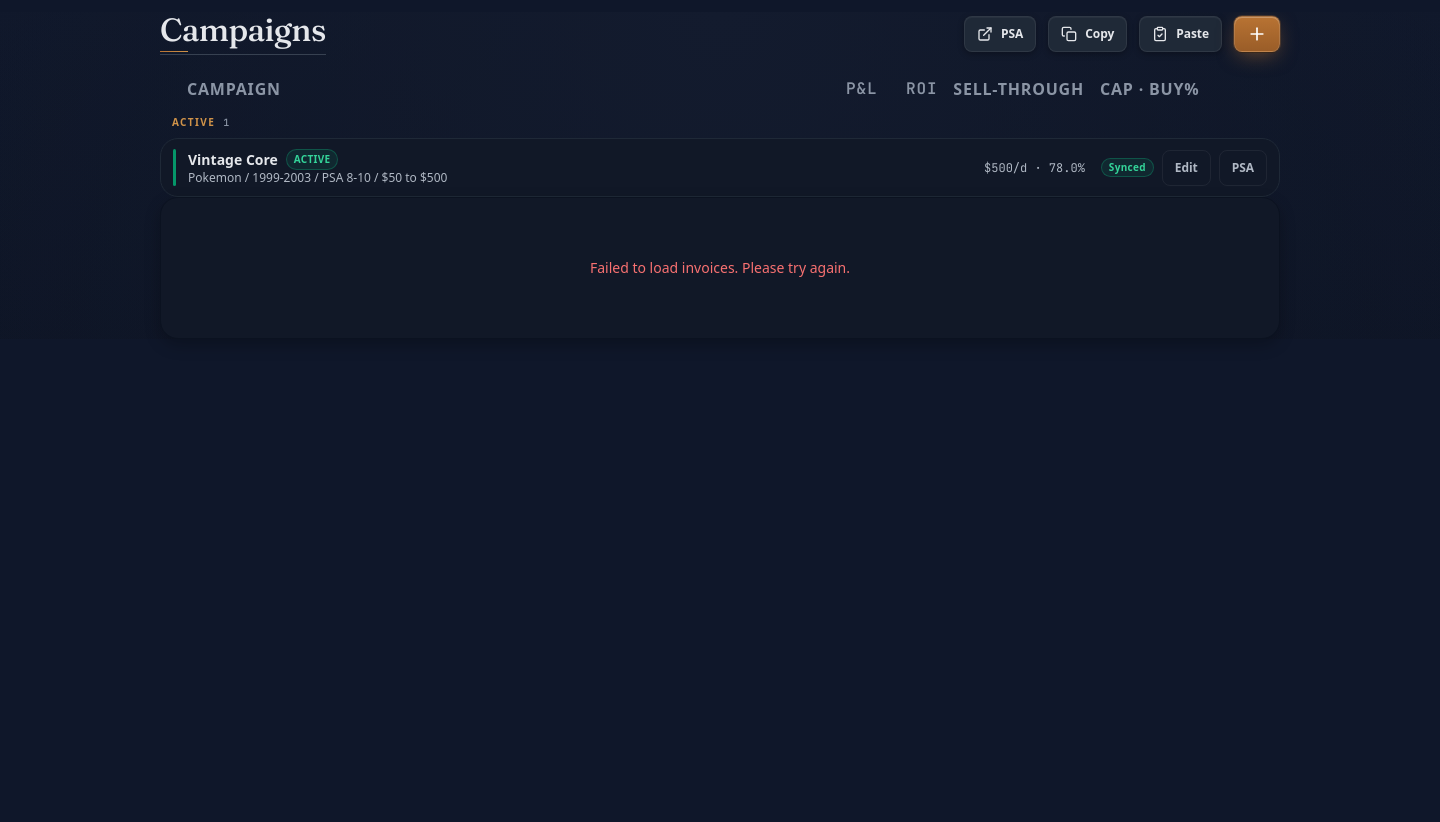
Test: records a 409 as a per-campaign error and keeps importing the rest
The image size is (1440, 822).
Click the button with aria-label "import campaigns from clipboard". click: (1181, 34)
box: [1139,16,1222,52]
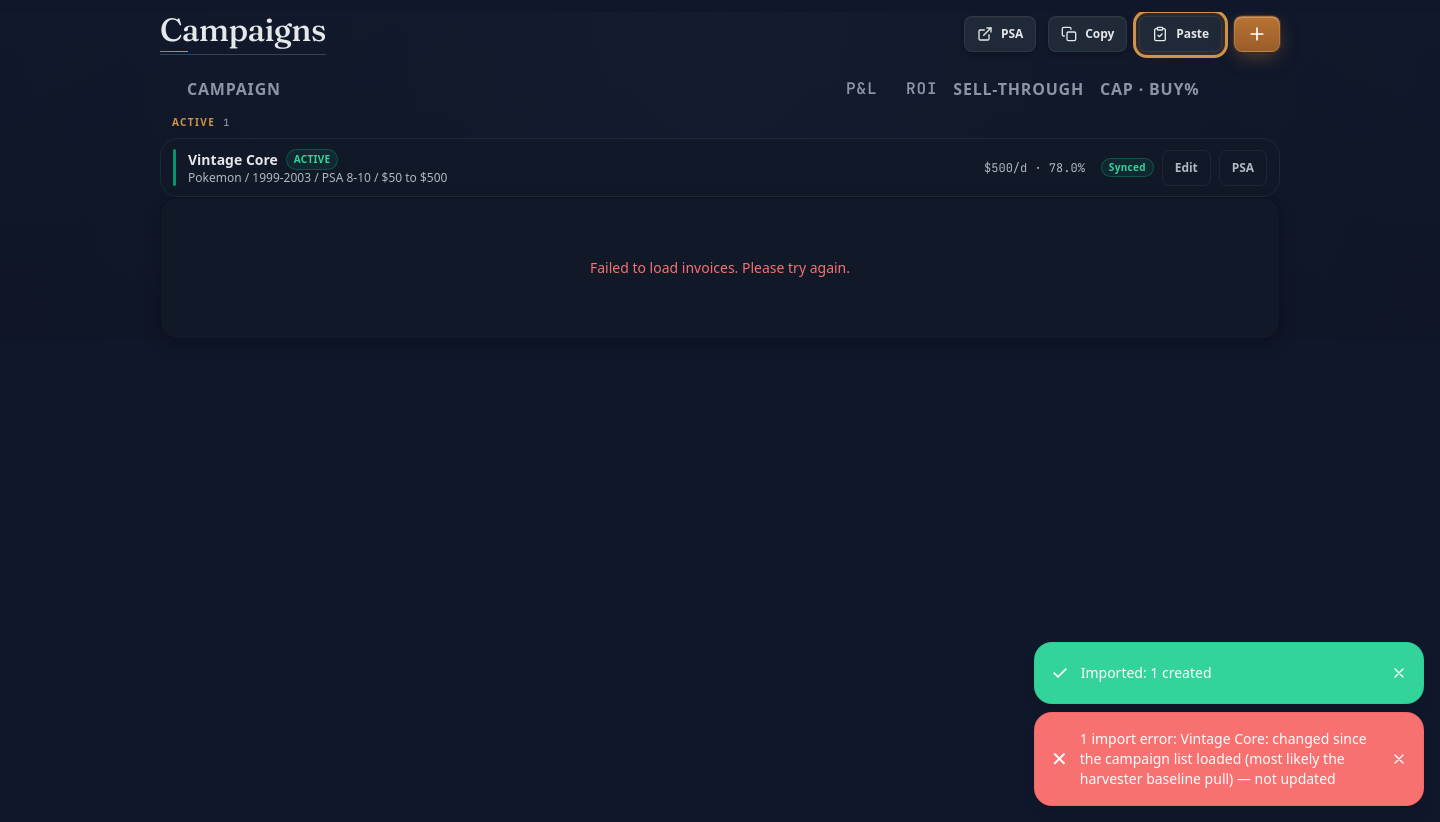
expect the text "changed since the campaign list loaded" is shown: met, box [1080,729,1367,788]
